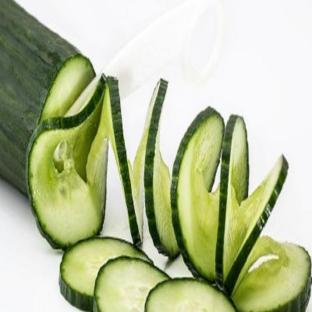Cucumber: (0, 0, 94, 192), (27, 78, 107, 248), (216, 116, 287, 294), (171, 108, 224, 281), (99, 78, 150, 244), (59, 238, 150, 311), (145, 80, 178, 258), (233, 237, 311, 311), (216, 116, 248, 285), (94, 257, 168, 311), (145, 278, 235, 311)
